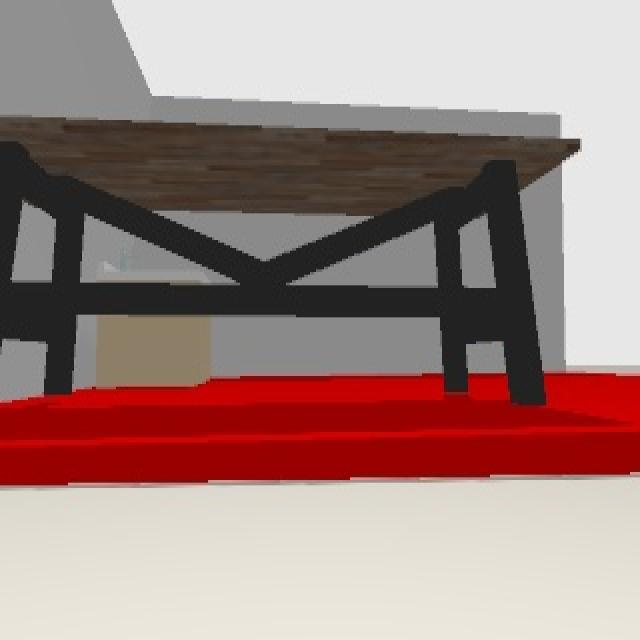dining: (0, 114, 580, 408)
